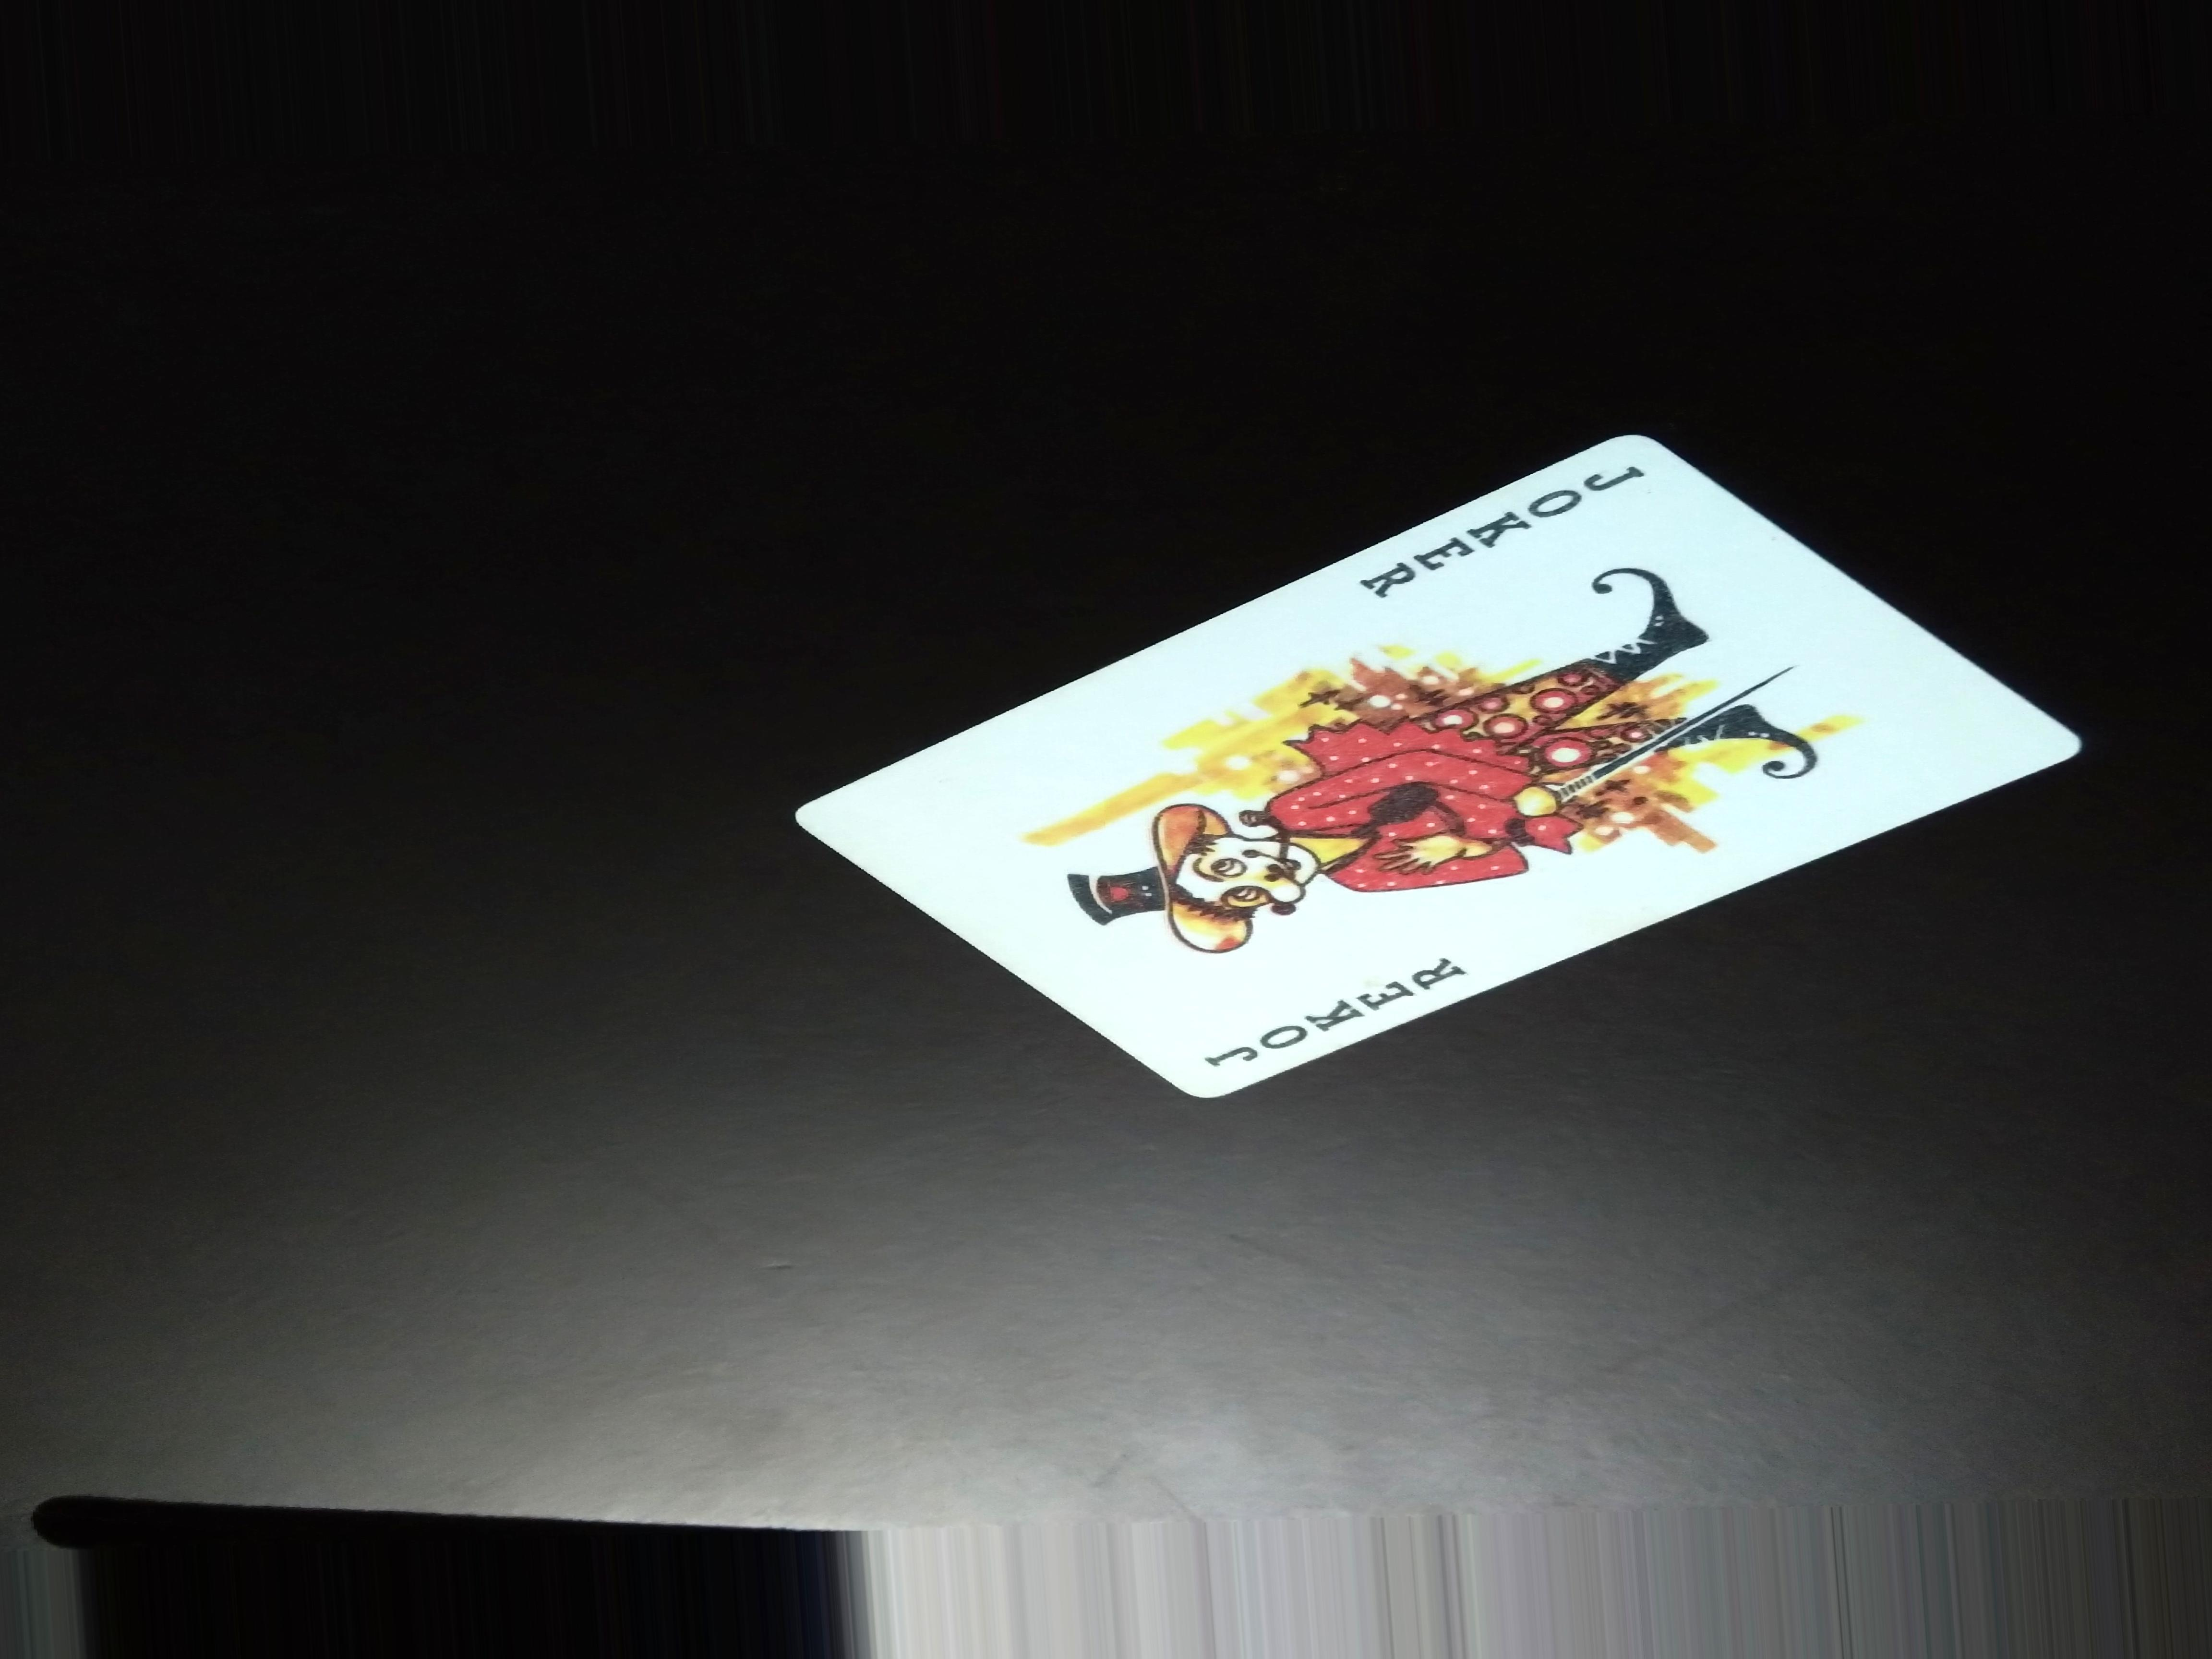JOKER: (1348, 437, 1637, 605)
